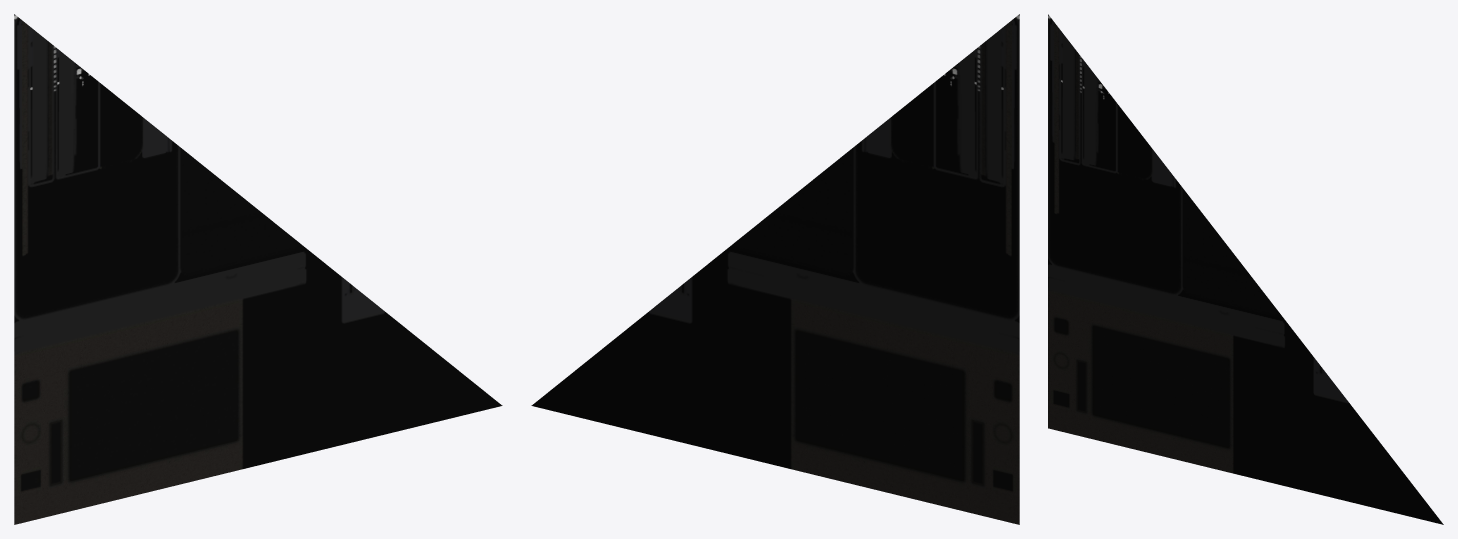
File: film_skin_black.glb
3 views of the same model, side by side, from view 1: azimuth 30°, elevation 25°; view 2: azimuth 150°, elevation 25°; view 3: azimuth 330°, elevation 25° (orthographic). The views are drawn at different scales.
Visible parts, largest first — view 1: swatch; view 2: swatch; view 3: swatch.
Boxes of the visible parts, x1=… form: swatch: x1=14, y1=14, x2=502, y2=524; swatch: x1=531, y1=14, x2=1019, y2=524; swatch: x1=1048, y1=14, x2=1443, y2=524.
Size of the model in its own units: 1 by 1 by 0.
1 material, 1 textured.
